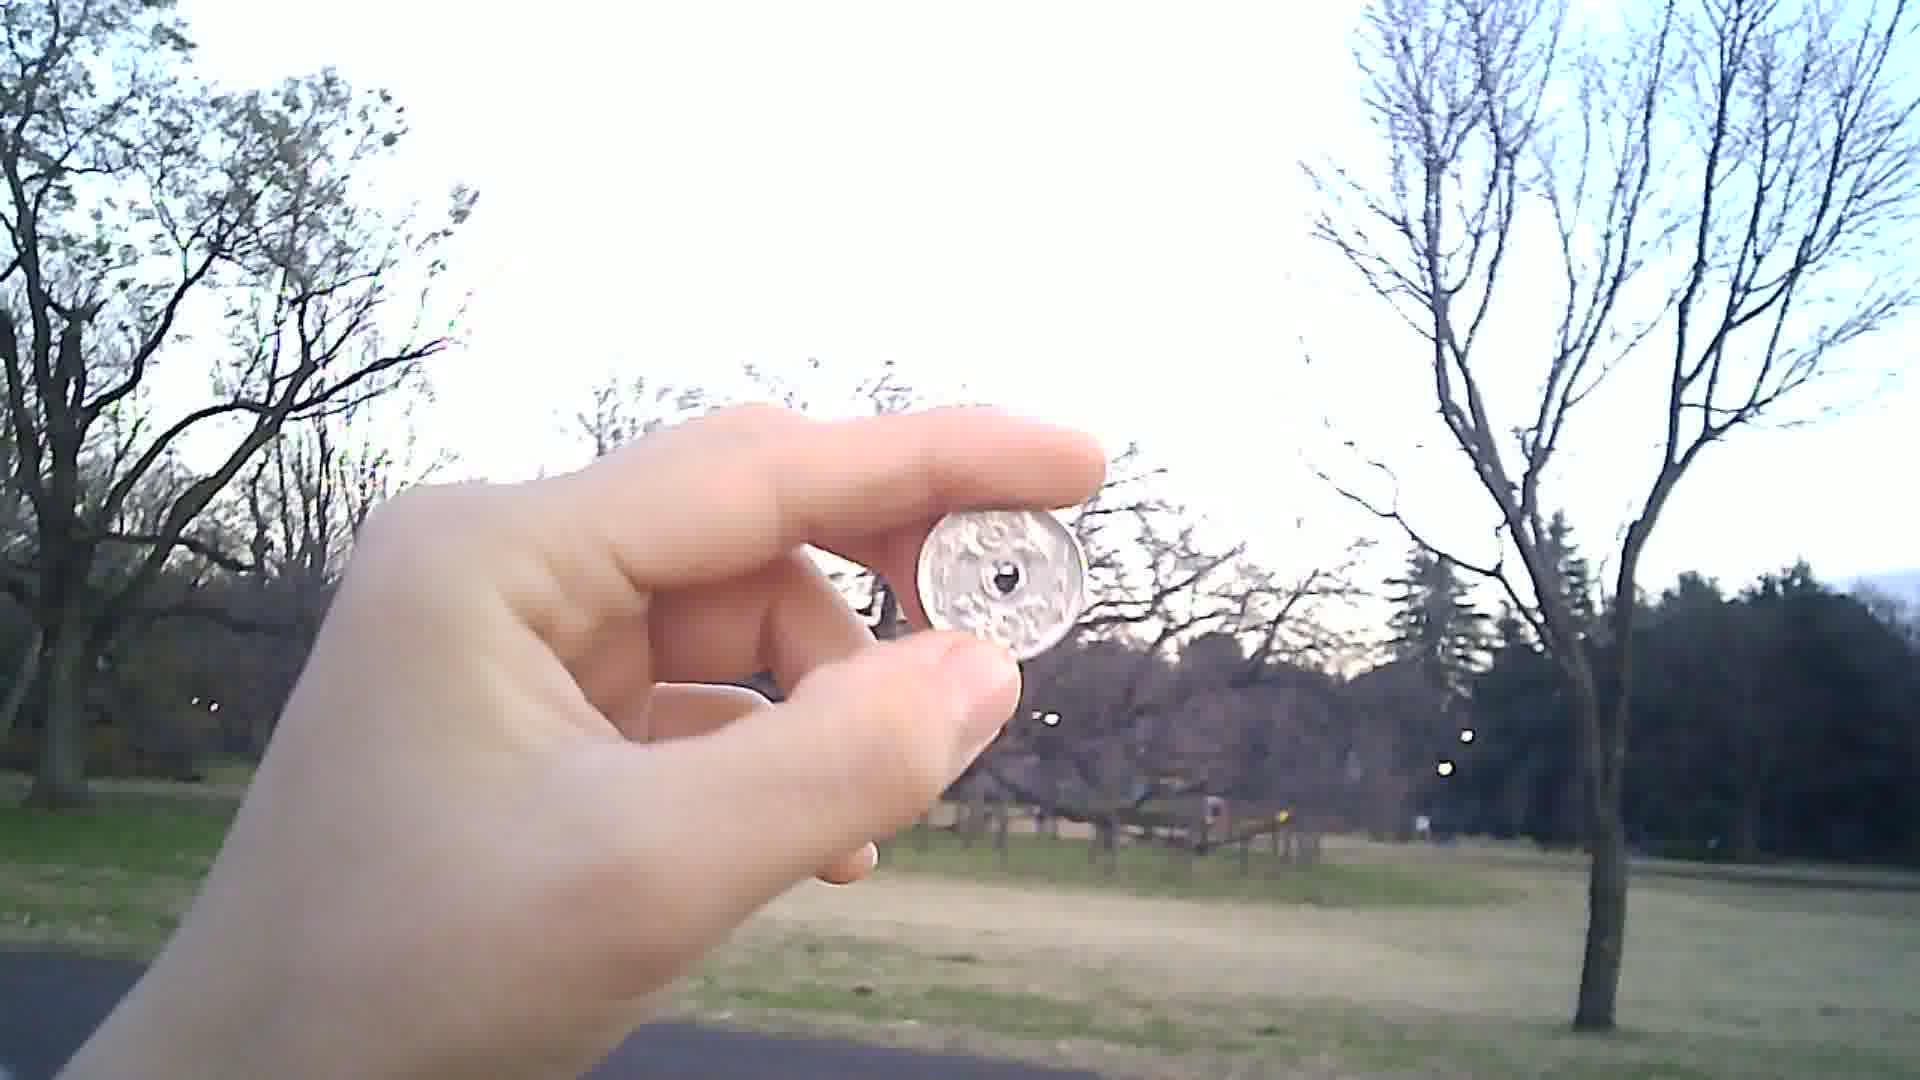50 Yen: (913, 485, 1083, 665)
